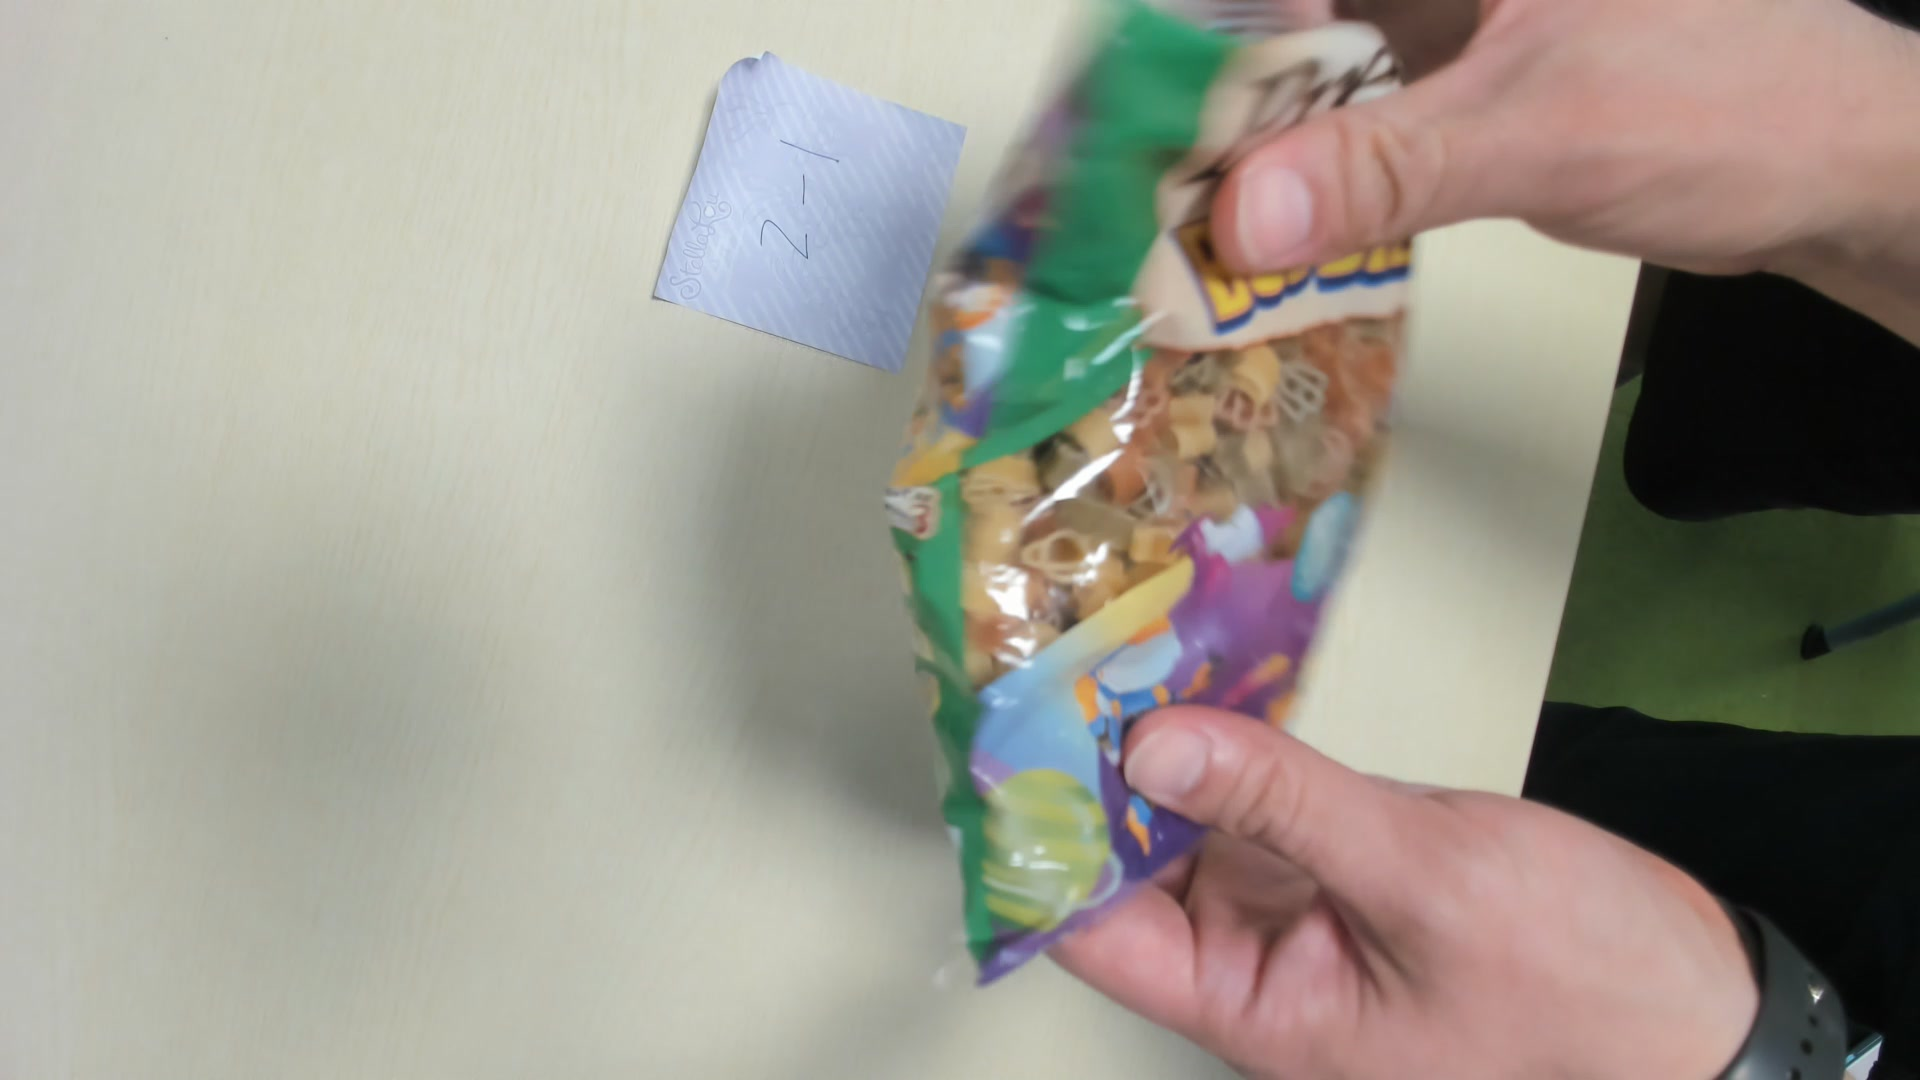Pasta_200-299g_Halal_NonHealthy: (882, 9, 1423, 992)
